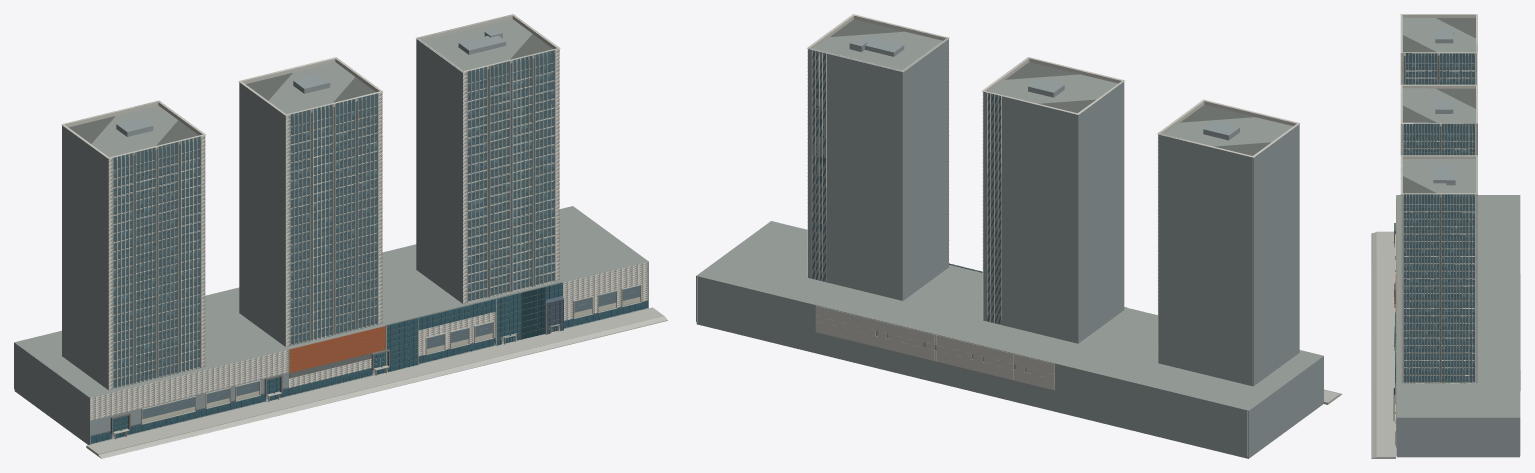
File: light.glb
3 renders of one model, left to right at view 1: azimuth 30°, elevation 25°; view 2: azimuth 150°, elevation 25°; view 3: azimuth 270°, elevation 25°, orthographic. The views are drawn at different scales.
Visible parts, largest first — view 1: Podium_NW_side_closure, SOHO_MID_east_continuous_narrow_ribs, Podium_glass_backstop_NOT_INTERIOR, SOHO_MID_roof_deck, Forecourt_continuous_steps, SOHO_MID_east_horizontal_spandrels, Podium_glass_grid, Podium_curtainwall_frames, SOHO_MID_east_glazing_0, SOHO_MID_east_glazing_2, SOHO_MID_east_glazing_4, SOHO_MID_east_glazing_6 (+17 smaller); view 2: Podium_NW_side_closure, SOHO_MID_roof_deck, Podium_rear_partial_high_wall, SOHO_MID_east_glazing_2, SOHO_MID_east_continuous_narrow_ribs, Podium_glass_backstop_NOT_INTERIOR; view 3: SOHO_MID_roof_deck, SOHO_MID_east_continuous_narrow_ribs, Podium_glass_backstop_NOT_INTERIOR, Podium_NW_side_closure, Forecourt_continuous_steps, SOHO_MID_east_horizontal_spandrels, SOHO_MID_east_glazing_4, SOHO_MID_east_glazing_1, SOHO_MID_east_glazing_2, SOHO_MID_east_glazing_7, Podium_rear_partial_high_wall, SOHO_MID_east_glazing_5 (+11 smaller).
Boxes of the visible parts, <box> form: Podium_NW_side_closure: <box>14,14,648,444</box>; SOHO_MID_east_continuous_narrow_ribs: <box>113,15,558,389</box>; Podium_glass_backstop_NOT_INTERIOR: <box>69,34,641,440</box>; SOHO_MID_roof_deck: <box>15,19,648,397</box>; Forecourt_continuous_steps: <box>86,307,667,458</box>; SOHO_MID_east_horizontal_spandrels: <box>113,62,557,388</box>; Podium_glass_grid: <box>90,283,647,443</box>; Podium_curtainwall_frames: <box>93,66,642,442</box>; SOHO_MID_east_glazing_0: <box>113,50,554,387</box>; SOHO_MID_east_glazing_2: <box>113,55,554,381</box>; SOHO_MID_east_glazing_4: <box>113,54,554,383</box>; SOHO_MID_east_glazing_6: <box>113,52,554,385</box>; Podium_NW_side_closure: <box>696,36,1323,458</box>; SOHO_MID_roof_deck: <box>696,31,1323,411</box>; Podium_rear_partial_high_wall: <box>806,14,1300,390</box>; SOHO_MID_east_glazing_2: <box>812,51,1001,323</box>; SOHO_MID_east_continuous_narrow_ribs: <box>808,20,1189,323</box>; Podium_glass_backstop_NOT_INTERIOR: <box>830,19,1270,272</box>; SOHO_MID_roof_deck: <box>1396,17,1520,417</box>; SOHO_MID_east_continuous_narrow_ribs: <box>1400,53,1477,383</box>; Podium_glass_backstop_NOT_INTERIOR: <box>1403,18,1475,382</box>; Podium_NW_side_closure: <box>1396,29,1520,457</box>; Forecourt_continuous_steps: <box>1371,231,1395,458</box>; SOHO_MID_east_horizontal_spandrels: <box>1404,63,1474,383</box>; SOHO_MID_east_glazing_4: <box>1404,53,1474,381</box>; SOHO_MID_east_glazing_1: <box>1404,53,1474,381</box>; SOHO_MID_east_glazing_2: <box>1404,53,1474,381</box>; SOHO_MID_east_glazing_7: <box>1404,53,1474,381</box>; Podium_rear_partial_high_wall: <box>1400,14,1520,390</box>; SOHO_MID_east_glazing_5: <box>1404,53,1474,381</box>.
Bounding box in the file's own units: 211 × 101 × 59.04.
